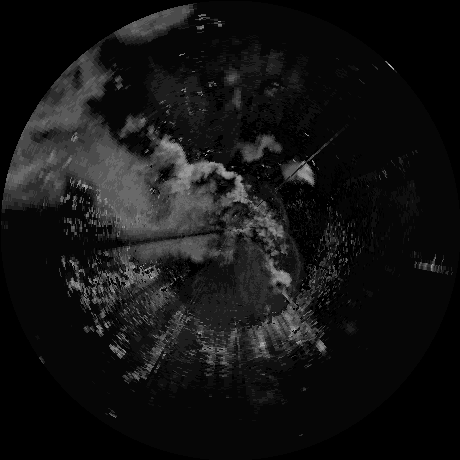frontgust: (288, 234, 302, 295), (279, 196, 292, 229)
